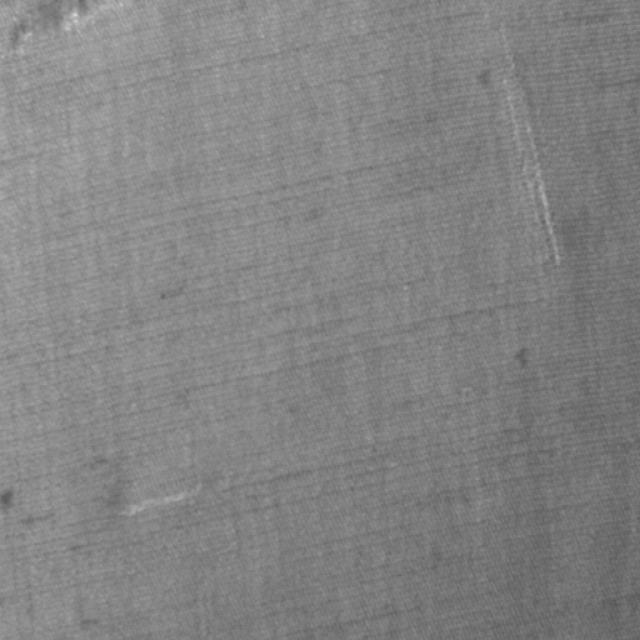thread error: (496, 16, 562, 275), (3, 0, 131, 61), (101, 455, 198, 516)
